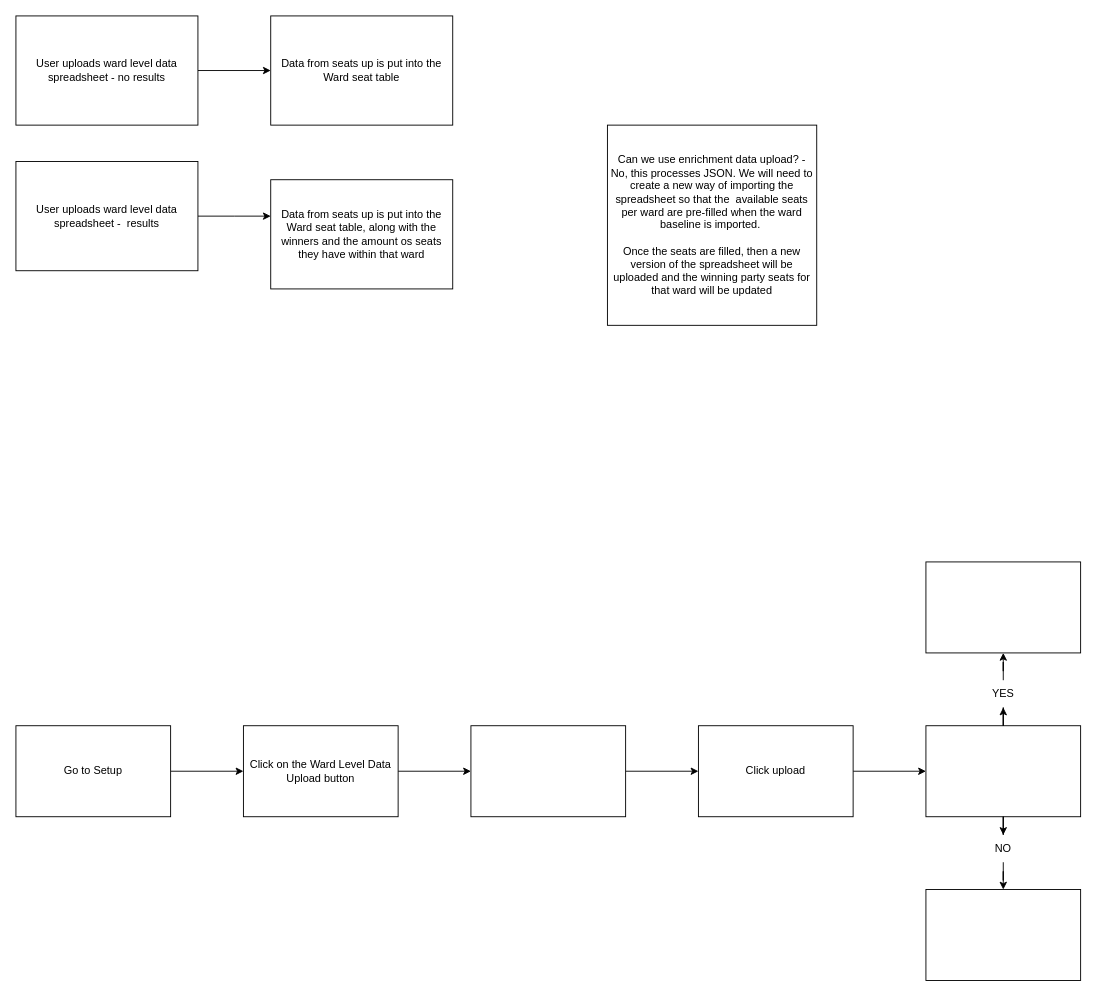
Image size: 1097x996. Some labels were removed from this diagram. Here are the shapes that lost their labels. From the top down, the centre of each, then its label:
At pixel 1003 607: "The value found in seats up is displayed in the ward level component".
At pixel 548 771: "Select the spreadsheet from your computer".
At pixel 1003 771: "Is file valid?".
At pixel 1003 935: "A message is displayed advising that the file cannot be processed.".
